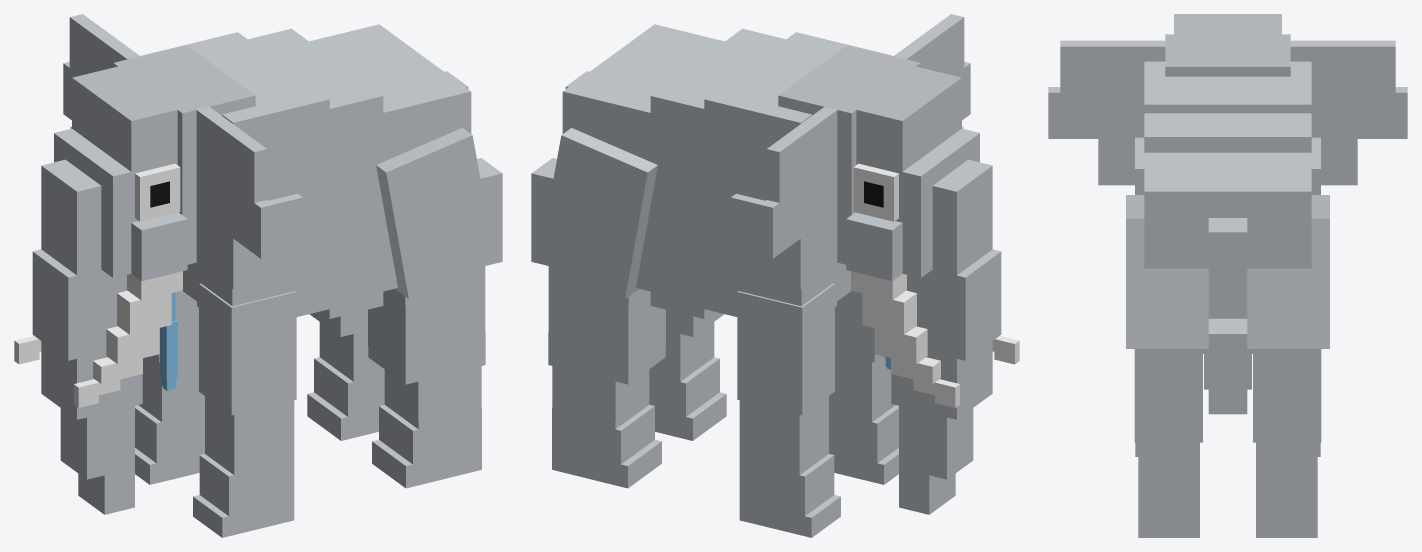
File: Elephant.fbx
The picture shows the model from 3 angles, left to right: view 1: azimuth 30°, elevation 25°; view 2: azimuth 150°, elevation 25°; view 3: azimuth 270°, elevation 25°; orthographic projection. The views are drawn at different scales.
Visible parts, largest first — view 1: Box001; view 2: Box001; view 3: Box001.
Part boxes in pixels (<box>): Box001: <box>14,14,502,537</box>; Box001: <box>531,14,1019,537</box>; Box001: <box>1048,14,1407,537</box>.
Bounding box in the file's own units: 168 × 151 × 129.
1 material, 1 textured.
